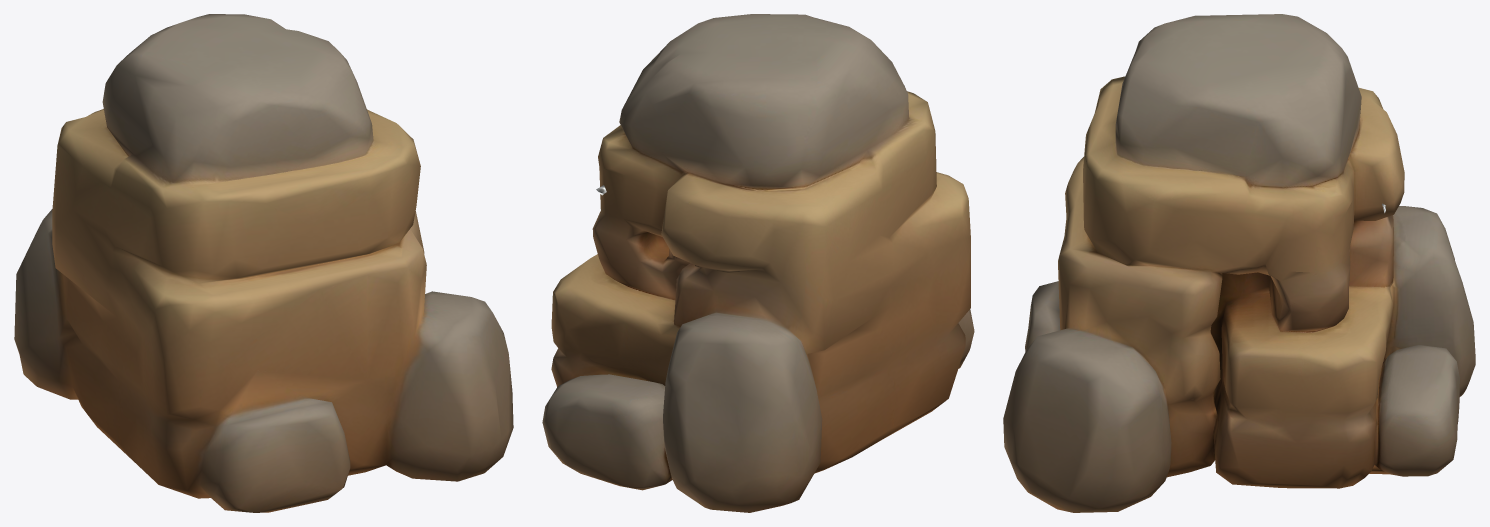
The model's file is tripo_convert_ae284b7c-7ac5-44eb-97bb-ca635d48e4a2.fbx.
The picture shows the model from 3 angles, left to right: view 1: azimuth 30°, elevation 25°; view 2: azimuth 150°, elevation 25°; view 3: azimuth 270°, elevation 25°; orthographic projection.
Visible parts, largest first — view 1: tripo_node_ae284b7c; view 2: tripo_node_ae284b7c; view 3: tripo_node_ae284b7c.
Part boxes in pixels (<box>): tripo_node_ae284b7c: <box>14,14,513,512</box>; tripo_node_ae284b7c: <box>542,14,974,512</box>; tripo_node_ae284b7c: <box>1003,14,1475,512</box>.
Bounding box in the file's own units: 82.72 × 100 × 90.03.
Materials: 1 (1 with a texture image).
